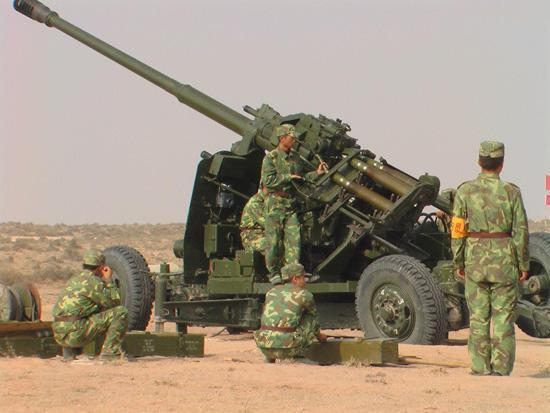MIL_SPG: (14, 0, 468, 344), (517, 233, 550, 336)
